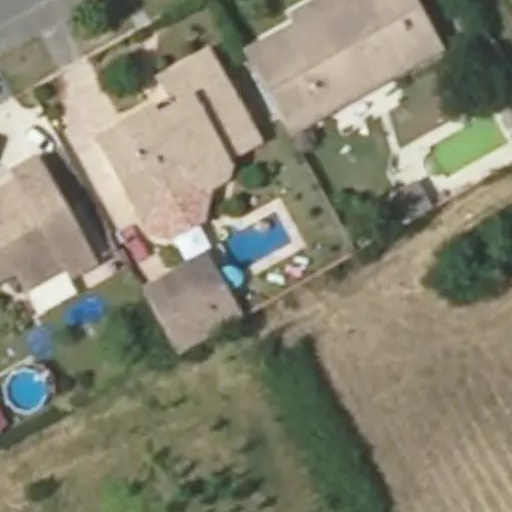pool: (215, 233, 292, 242)
